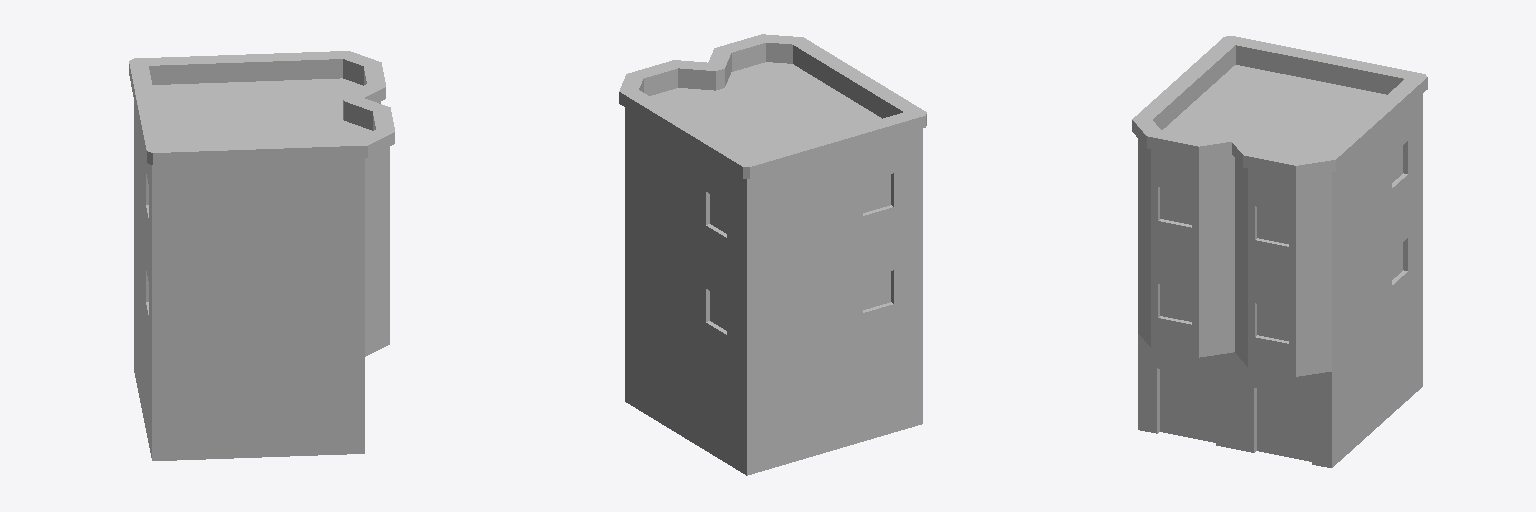
Rendered from variant_34.obj.
3 renders of one model, left to right at view 1: azimuth 30°, elevation 25°; view 2: azimuth 150°, elevation 25°; view 3: azimuth 270°, elevation 25°, orthographic.
Parts seen in each view (by area): view 1: small_buildingA; view 2: small_buildingA; view 3: small_buildingA.
Part boxes in pixels (left/top/right/bottom): small_buildingA: left=129, top=51, right=394, bottom=460; small_buildingA: left=619, top=34, right=926, bottom=475; small_buildingA: left=1132, top=36, right=1427, bottom=467.
Size of the model in its own units: 1.15 by 1.28 by 1.1.